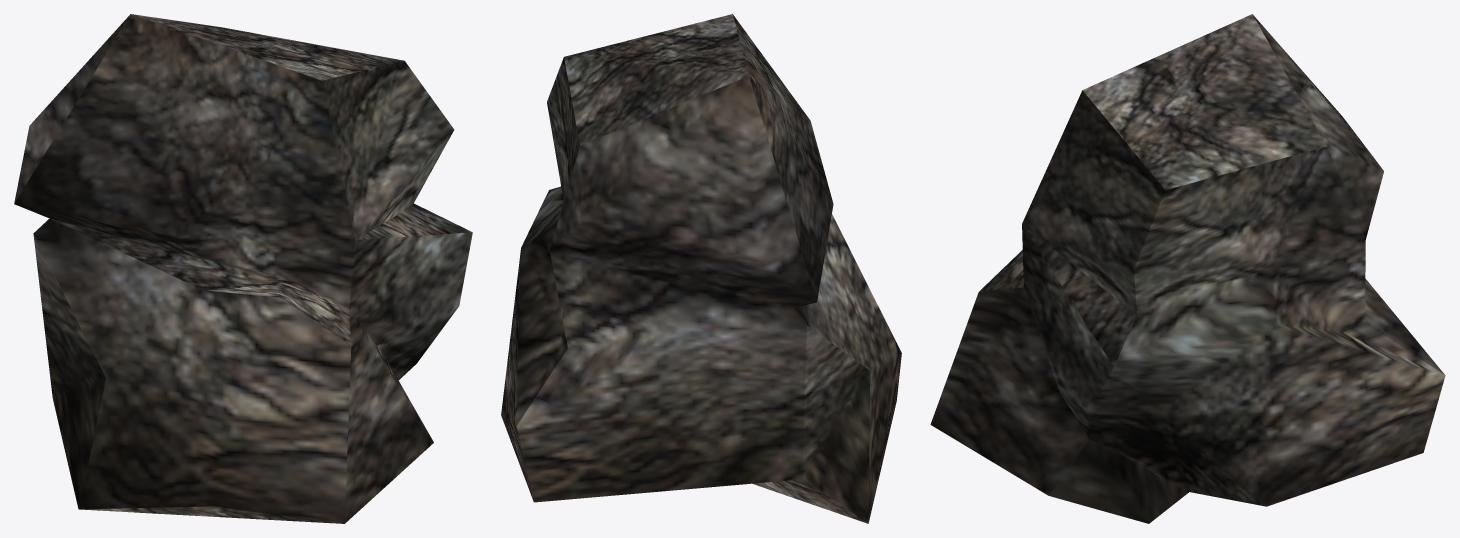
The picture shows the model from 3 angles, left to right: view 1: azimuth 30°, elevation 25°; view 2: azimuth 150°, elevation 25°; view 3: azimuth 270°, elevation 25°; orthographic projection. The views are drawn at different scales.
Visible parts, largest first — view 1: wj20; view 2: wj20; view 3: wj20.
Part boxes in pixels (box(x1,y1,x2,y2)): wj20: box(14, 14, 472, 523); wj20: box(501, 14, 901, 523); wj20: box(930, 14, 1445, 523).
Size of the model in its own units: 278 by 329 by 352.
